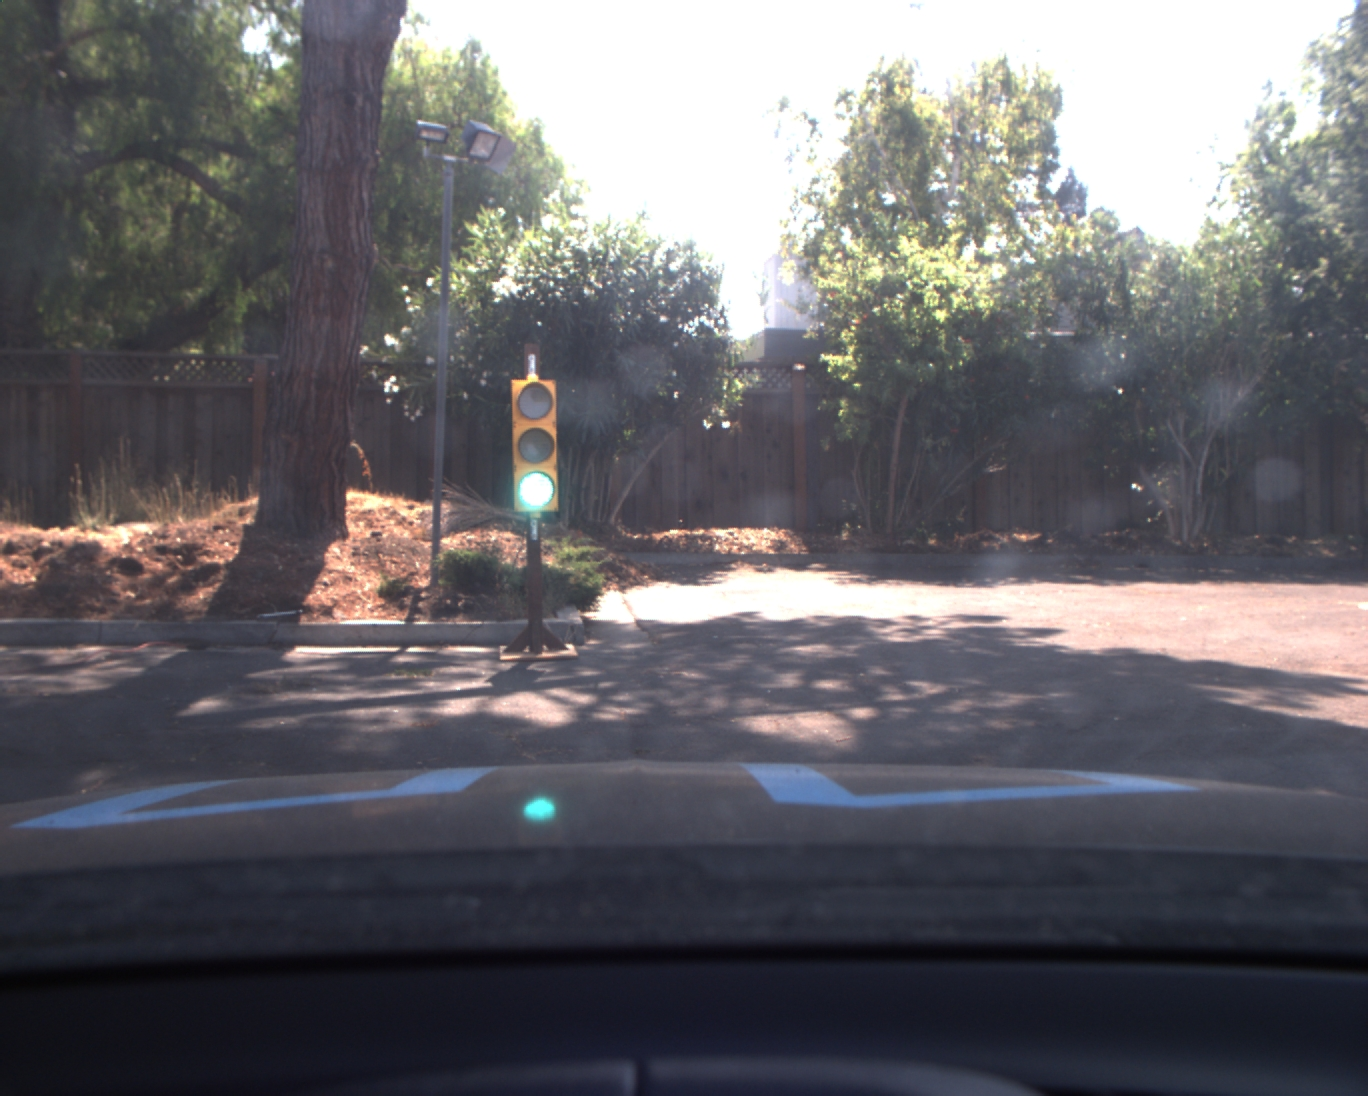green: (507, 375, 564, 517)
